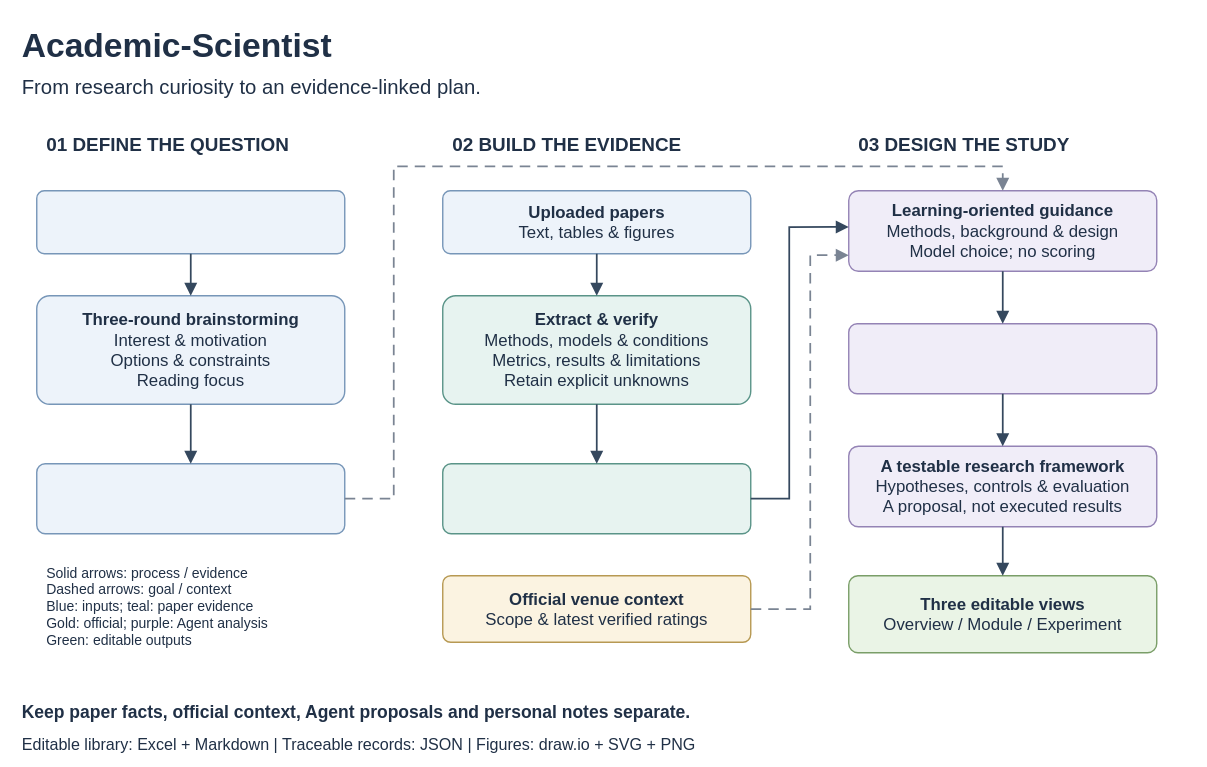
Image size: 1207x767. Some labels were removed from this diagram. Here are the shapes that lost their labels. From the top down, the centre of each, then its label:
point 190,222: Research curiosity A broad topic is enough
point 1002,358: Confirm one research route Ask about unresolved choices
point 190,498: Research profile Goals, constraints & unknowns
point 596,498: Evidence-linked records Page, table & figure references
